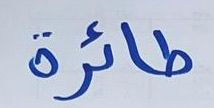alef: (118, 18, 149, 76)
kaf: (79, 21, 114, 70)
reh: (60, 72, 96, 103)
tah: (150, 28, 194, 80)
teh_marbota: (23, 27, 59, 79)
